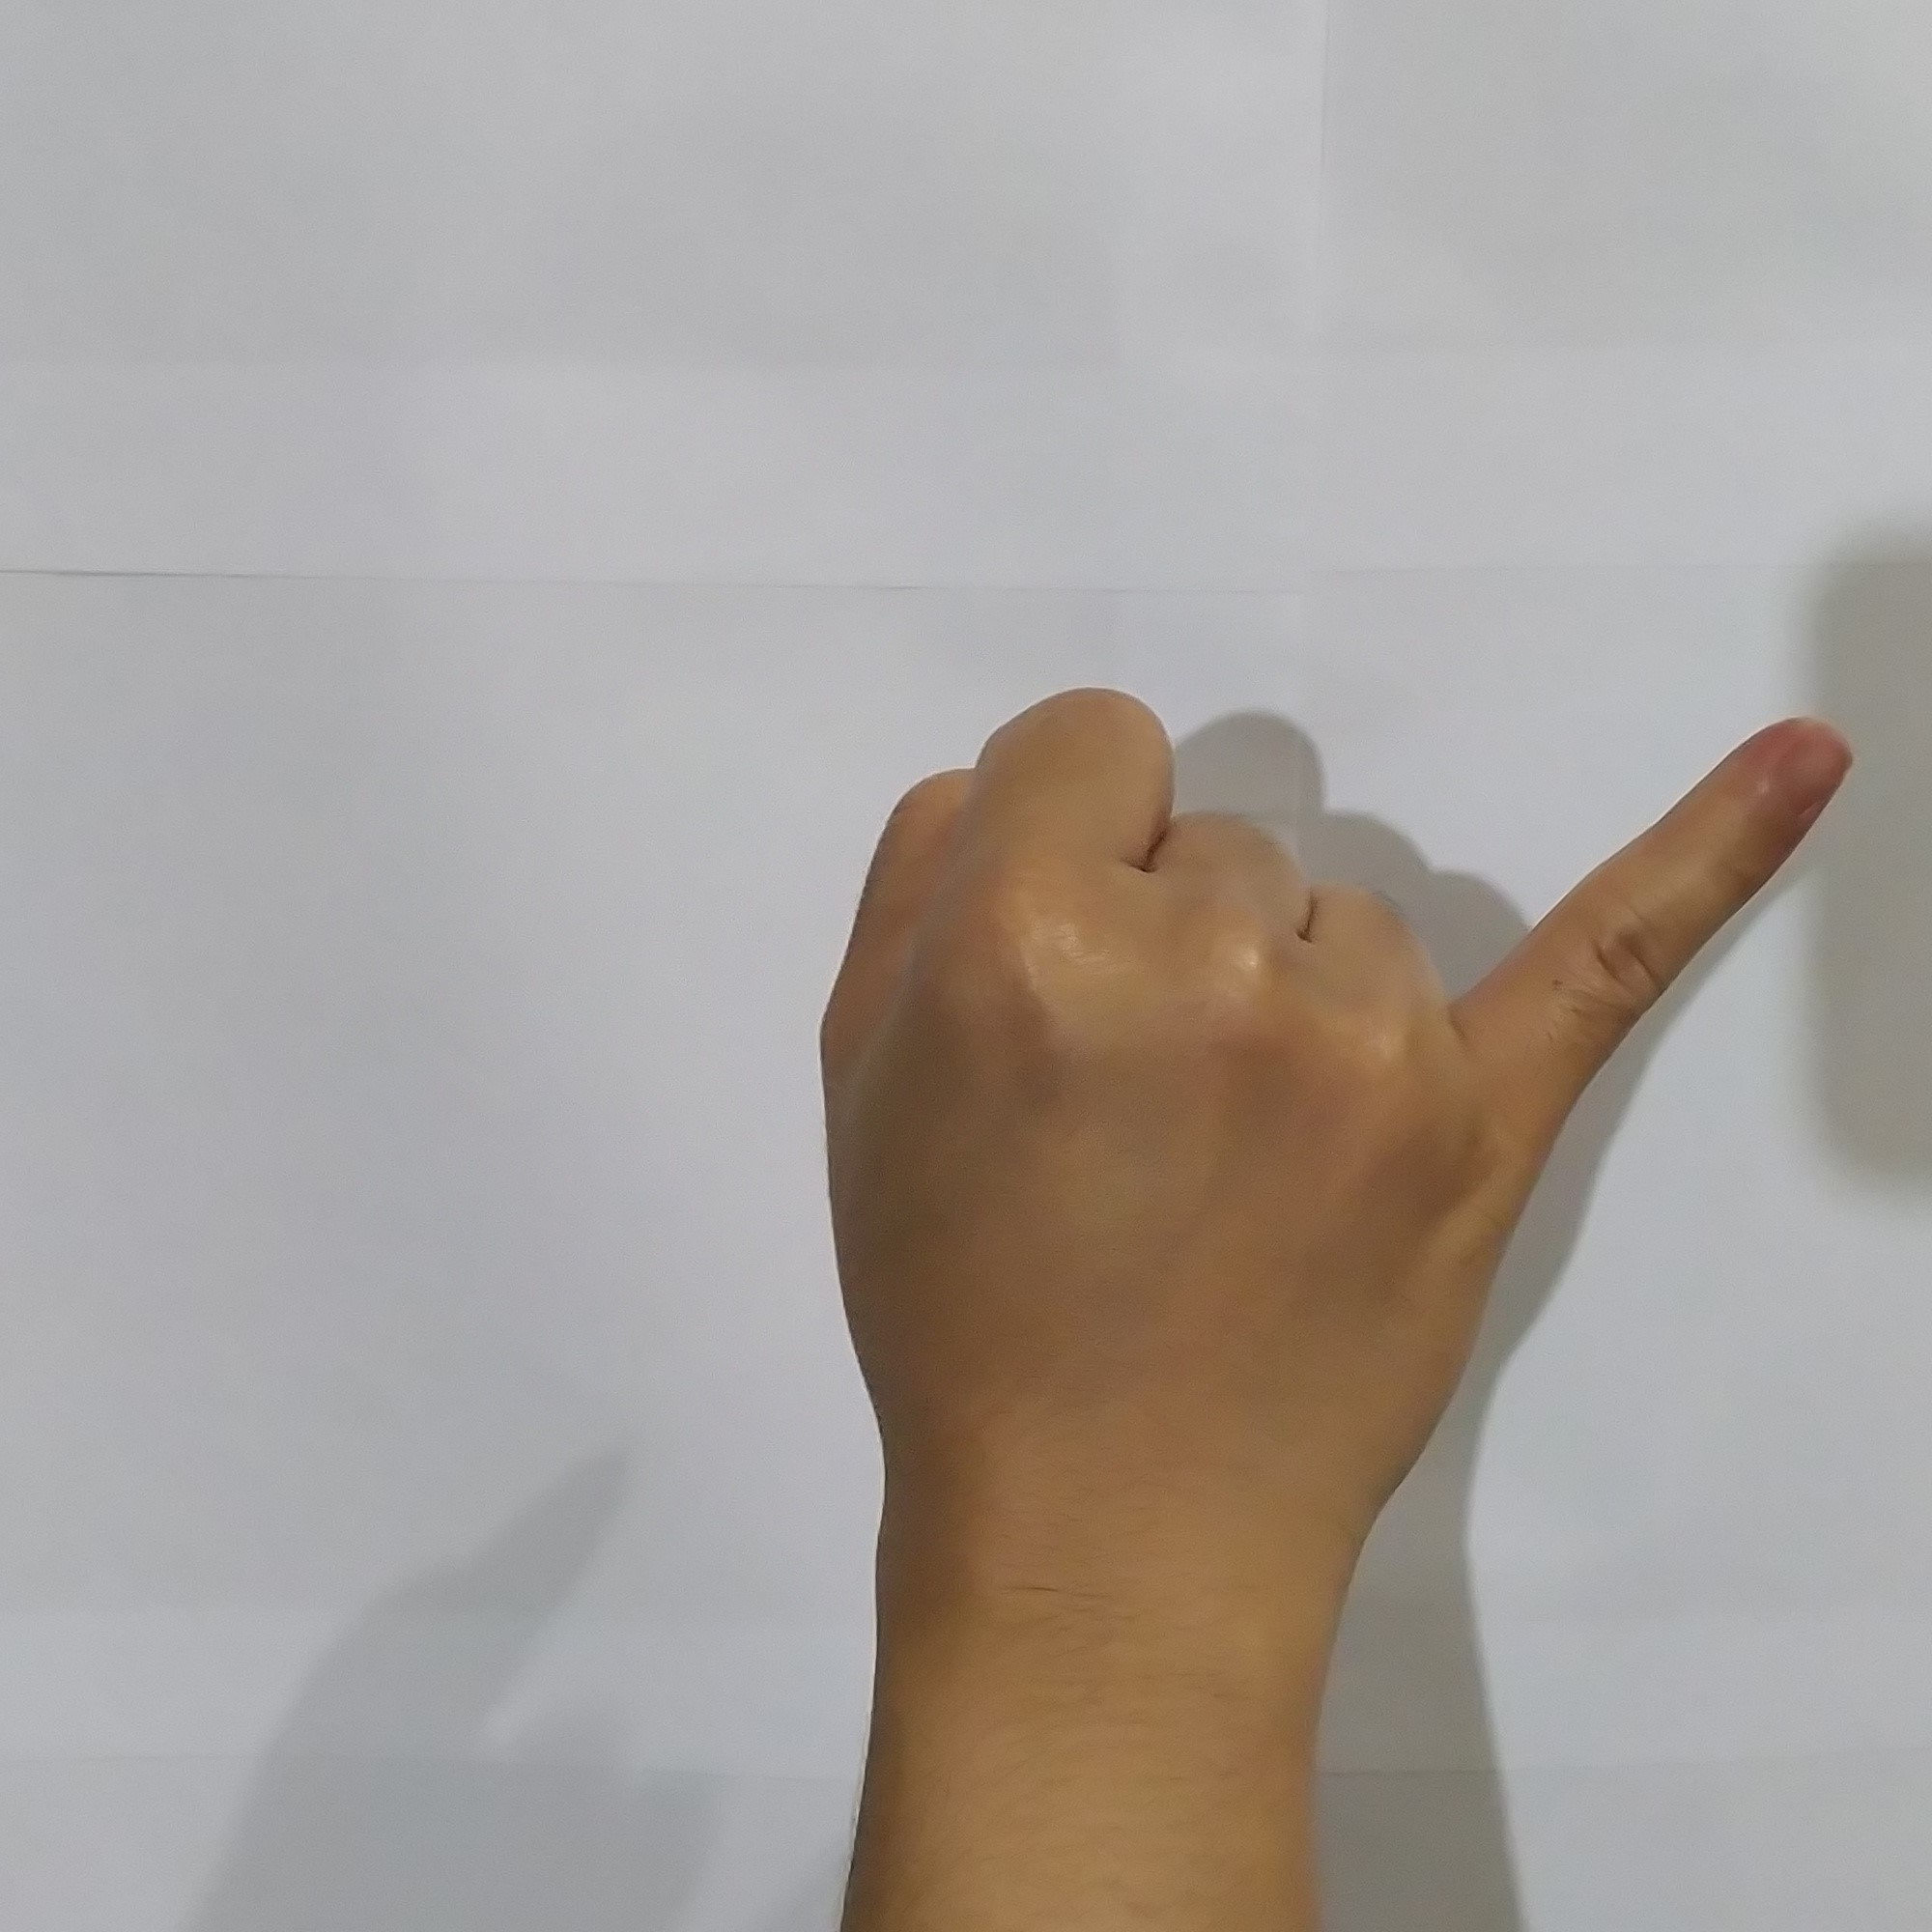J: (791, 655, 1875, 1536)
